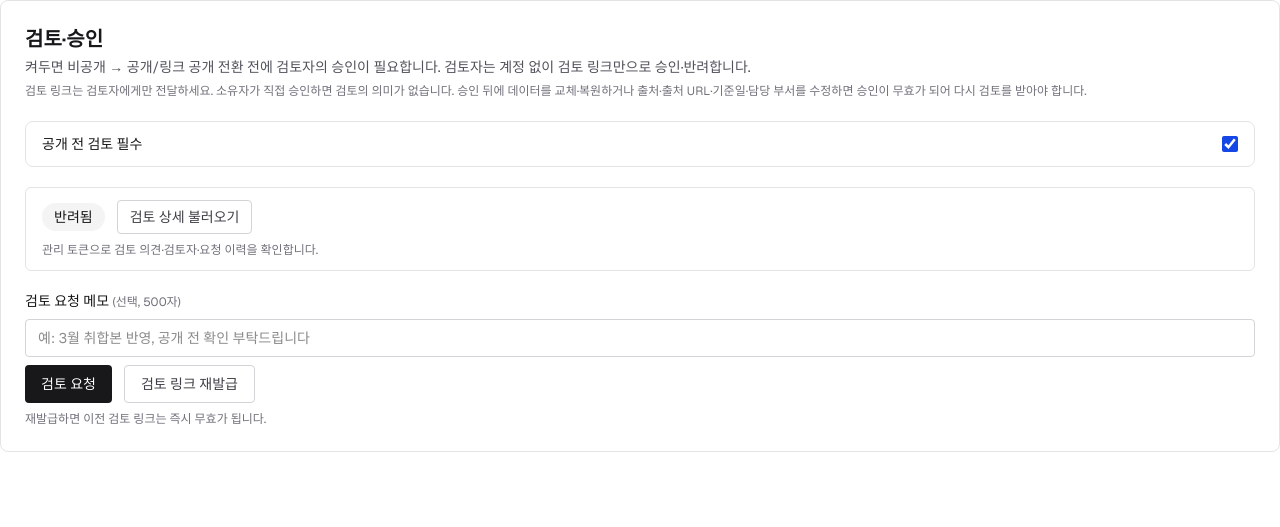
Test: ReviewSection › a 200 with malformed state shows an error instead of going idle
This screenshot has width=1280, height=527.
Click the button "검토 상세 불러오기".
click(184, 217)  # box [117,200,252,234]
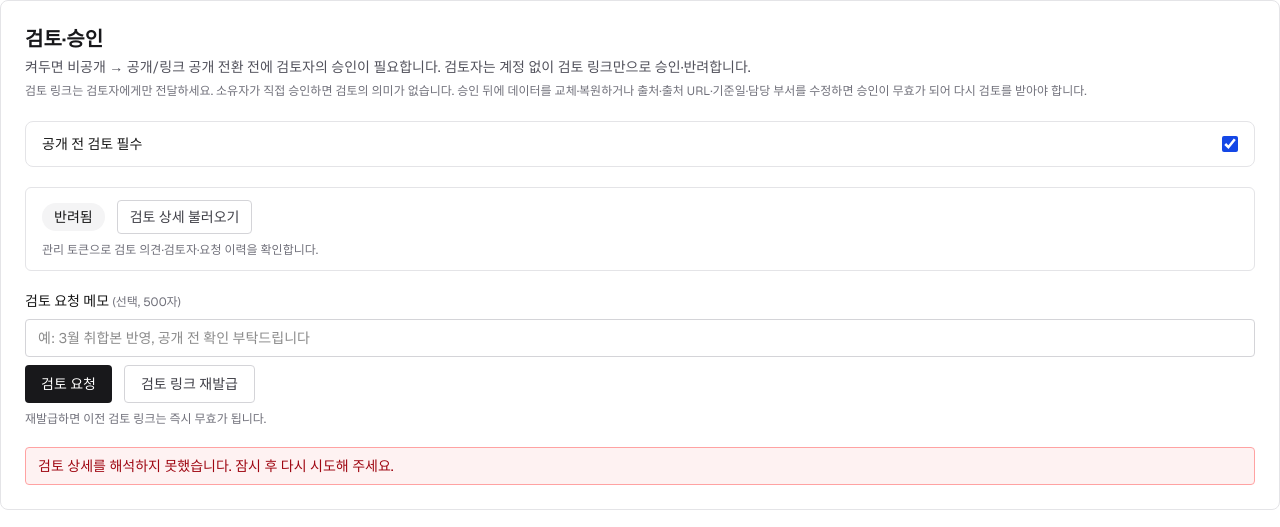
Expected: the text "반려됨" is shown, [42,203,105,231]
Expected: the text "검토 상세를 해석하지 못했습니다. 잠시 후 다시 시도해 주세요." is shown, [25,447,1255,485]
